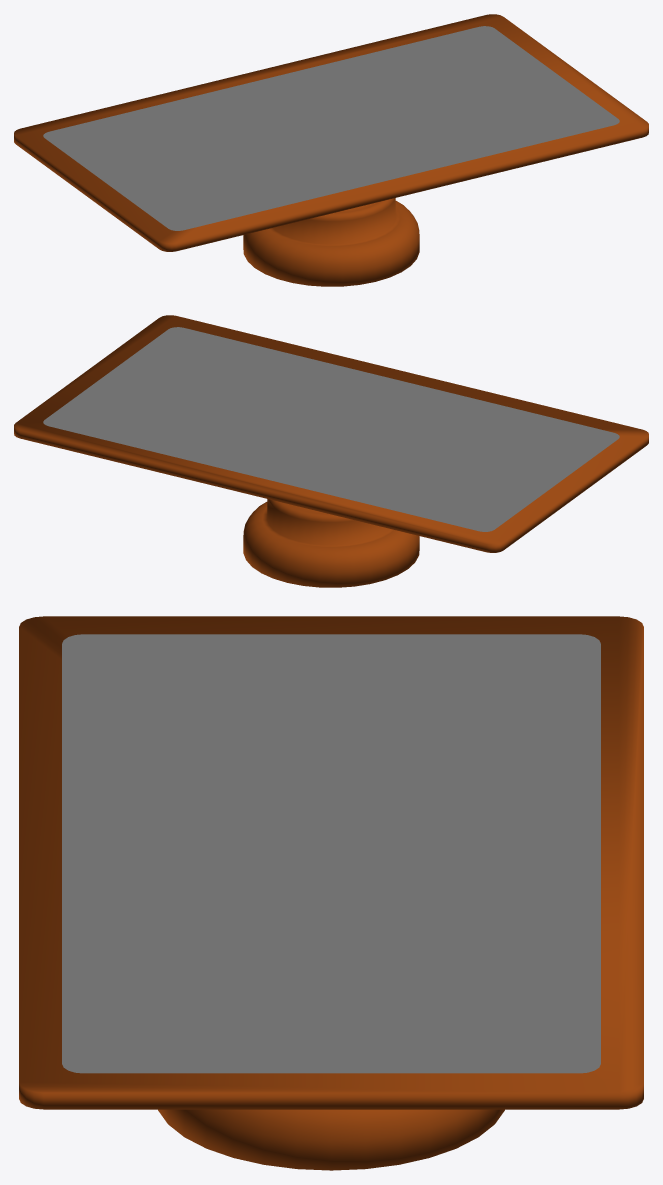
3 views of the same model, one above another, from view 1: azimuth 30°, elevation 25°; view 2: azimuth 150°, elevation 25°; view 3: azimuth 270°, elevation 25° (orthographic). The views are drawn at different scales.
Parts seen in each view (by area): view 1: Cube.001, Cube; view 2: Cube.001, Cube; view 3: Cube.001, Cube.
Part boxes in pixels (x1,y1,x2,y2): Cube.001: (43, 26, 619, 230); Cube: (14, 14, 648, 286); Cube.001: (43, 327, 619, 531); Cube: (14, 315, 648, 587); Cube.001: (62, 634, 600, 1073); Cube: (19, 616, 643, 1170).
Size of the model in its own units: 361 by 85.44 by 200.
